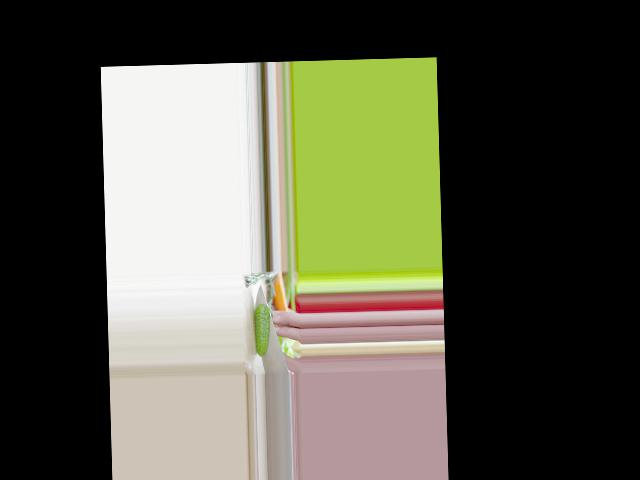cucumber: (253, 303, 270, 356)
